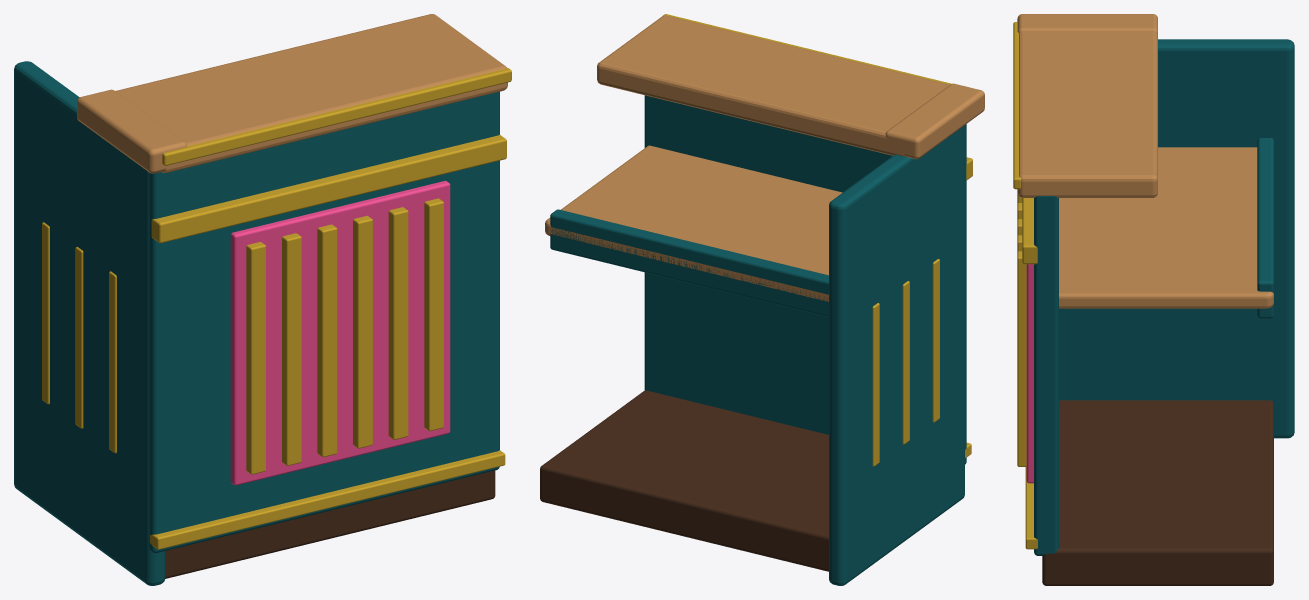
Rendered from reception-desk-end-left.glb.
The picture shows the model from 3 angles, left to right: view 1: azimuth 30°, elevation 25°; view 2: azimuth 150°, elevation 25°; view 3: azimuth 270°, elevation 25°; orthographic projection. The views are drawn at different scales.
Visible parts, largest first — view 1: front.panel, end.panel, panel.colour, top.txn, plinth, band.speed, band.base, top.txn.nose, flute.2, flute.4, end.top.txn, flute.0 (+6 smaller); view 2: end.panel, plinth, front.panel, top.txn, top.work, apron.back, end.top.txn, end.flute.0, end.flute.1, end.flute.2, top.txn.nose; view 3: end.panel, plinth, top.work, top.txn, front.panel, apron.back, end.top.txn, flute.5, panel.colour, top.txn.nose, band.speed, band.base.
Part boxes in pixels (x1,y1,x2,y2): front.panel: (149, 91, 499, 553); end.panel: (14, 61, 165, 585); panel.colour: (230, 180, 450, 485); top.txn: (115, 14, 507, 172); plinth: (165, 470, 495, 578); band.speed: (151, 134, 506, 243); band.base: (150, 450, 505, 549); top.txn.nose: (162, 68, 511, 165); flute.2: (317, 224, 337, 457); flute.4: (388, 207, 408, 439); end.top.txn: (77, 89, 187, 173); flute.0: (246, 242, 265, 474); end.panel: (829, 125, 964, 585); plinth: (540, 390, 828, 571); front.panel: (644, 95, 966, 464); top.txn: (597, 15, 949, 156); top.work: (545, 145, 842, 301); apron.back: (550, 209, 828, 317); end.top.txn: (885, 83, 984, 159); end.flute.0: (872, 303, 879, 466); end.flute.1: (902, 281, 909, 444); end.flute.2: (932, 259, 939, 422); top.txn.nose: (663, 14, 951, 84); end.panel: (1059, 39, 1294, 438); plinth: (1042, 400, 1273, 585); top.work: (1059, 147, 1273, 308); top.txn: (1017, 31, 1157, 197); front.panel: (1034, 196, 1058, 555); apron.back: (1257, 138, 1273, 318); end.top.txn: (1017, 14, 1157, 33); flute.5: (1017, 251, 1026, 466); panel.colour: (1026, 264, 1033, 483); top.txn.nose: (1013, 22, 1021, 189); band.speed: (1022, 198, 1037, 264); band.base: (1025, 467, 1037, 549).
Bounding box in the file's own units: 0.93 × 1.11 × 0.68.
